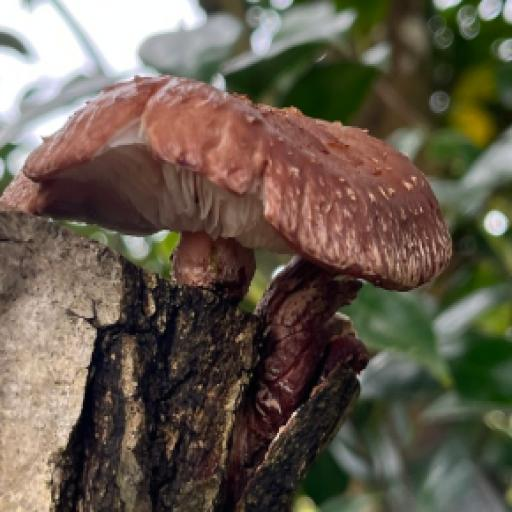Shiitake Mushroom: (0, 0, 498, 505)
